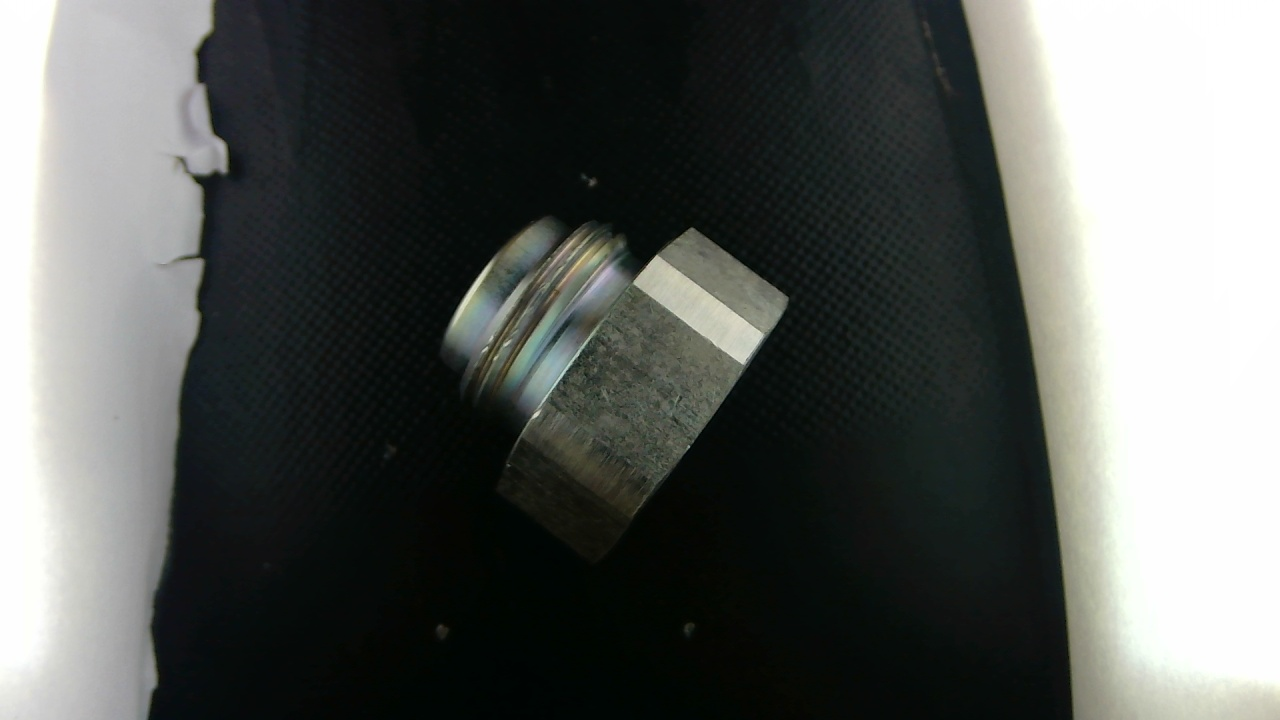Capnut_Surface_Dent: (470, 217, 602, 386)
